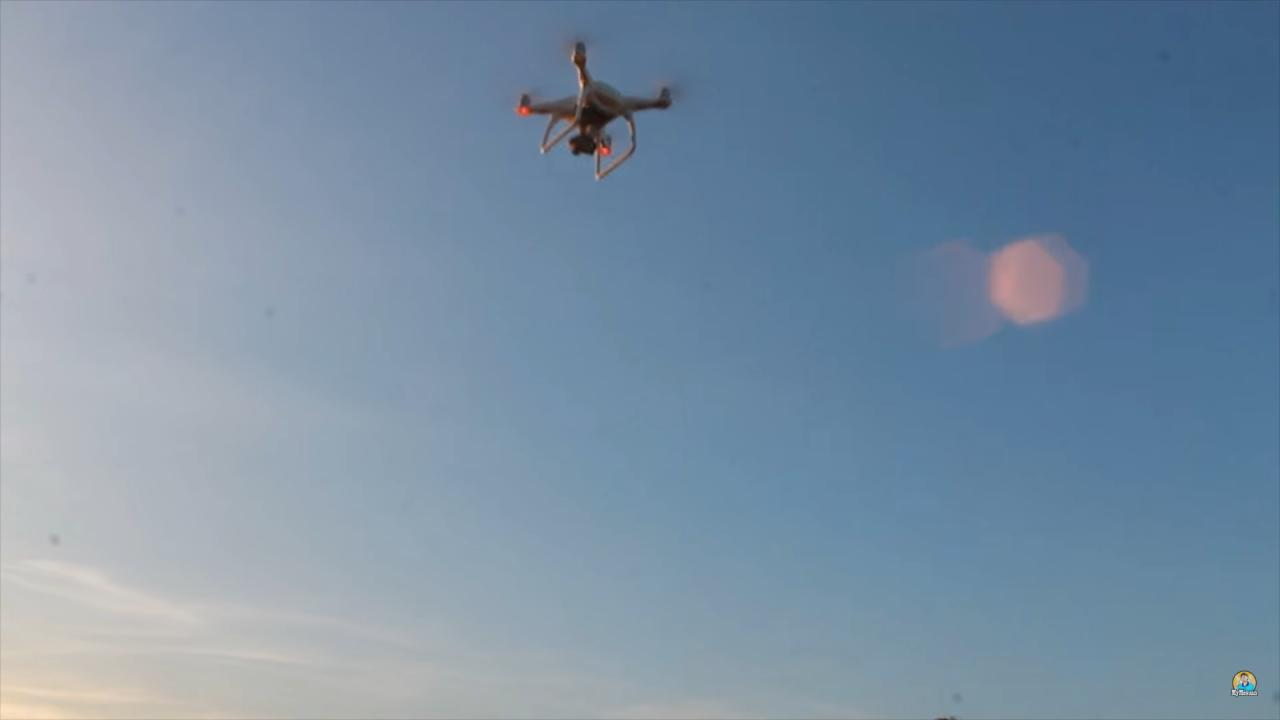Drone: (495, 19, 695, 195)
